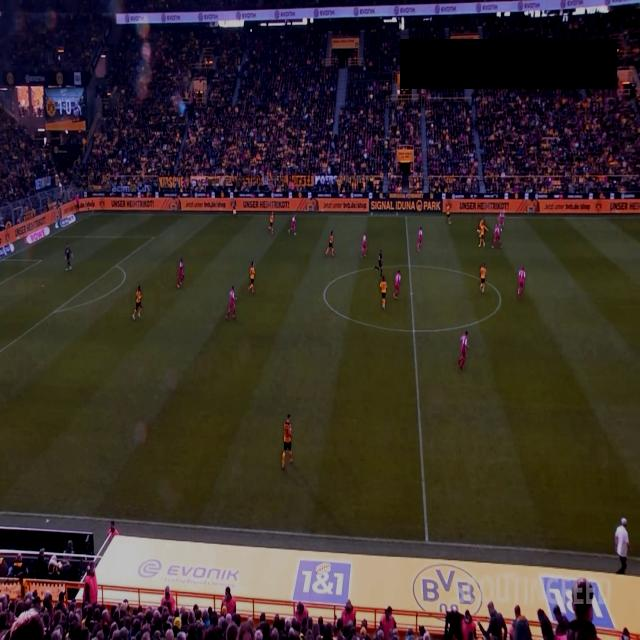f_player: (274, 406, 298, 478), (221, 279, 239, 331), (457, 323, 471, 381), (61, 241, 79, 285), (244, 259, 258, 303), (322, 224, 338, 262), (134, 279, 146, 327), (478, 263, 490, 308), (391, 266, 404, 306), (356, 226, 370, 262), (476, 214, 488, 256), (173, 257, 187, 291), (514, 264, 526, 300), (287, 210, 299, 242), (378, 275, 388, 310), (416, 227, 426, 261), (444, 201, 456, 228), (492, 223, 504, 250), (266, 210, 278, 236)
umpire: (376, 247, 386, 277)
